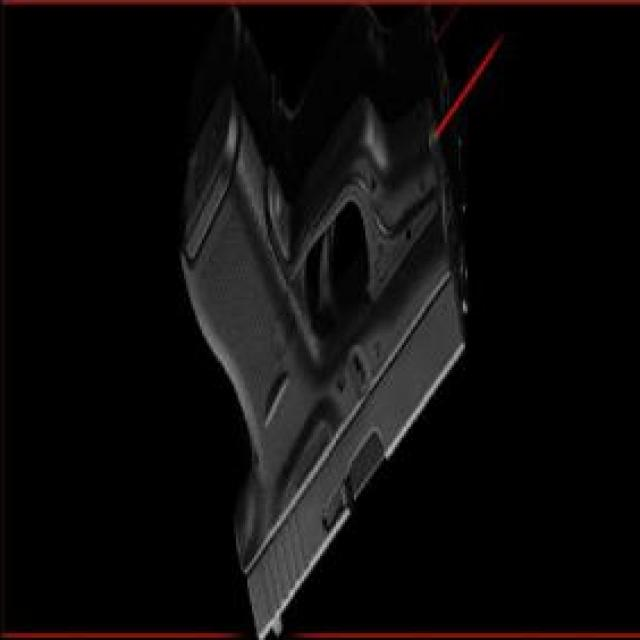pistol: (179, 74, 472, 624)
